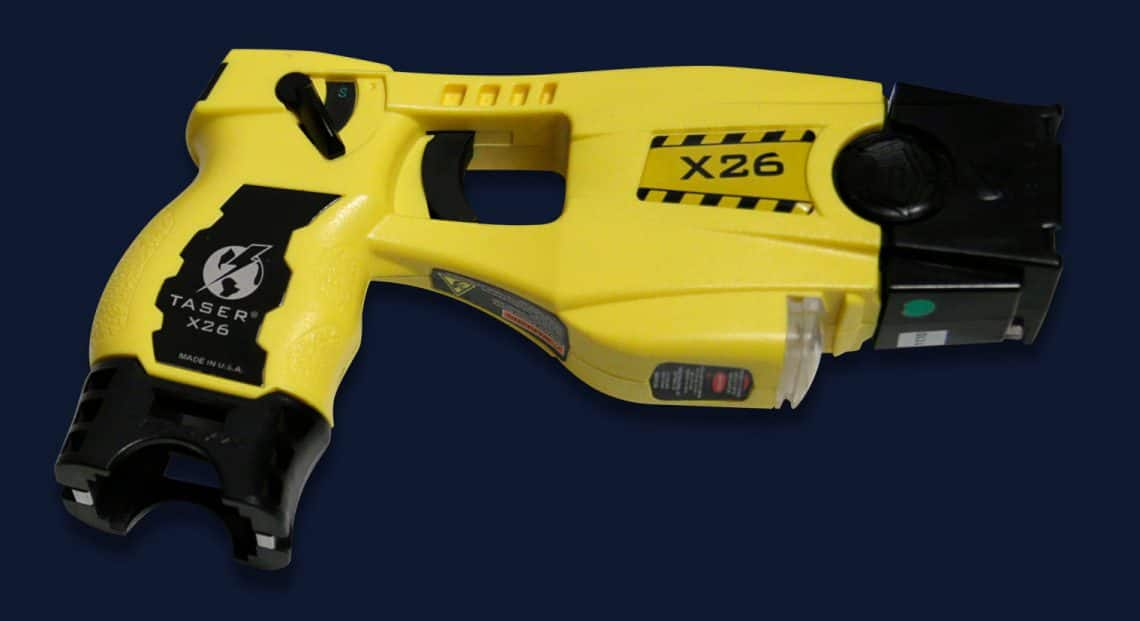Arma Falsa: (53, 37, 1063, 563)
